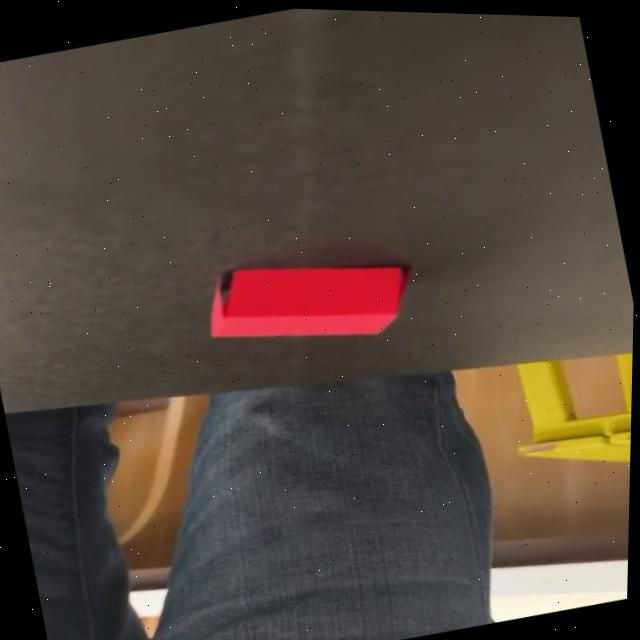red block: (195, 232, 417, 370)
